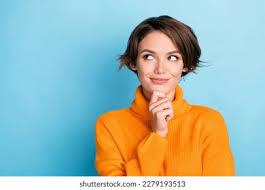person: (117, 7, 203, 100)
